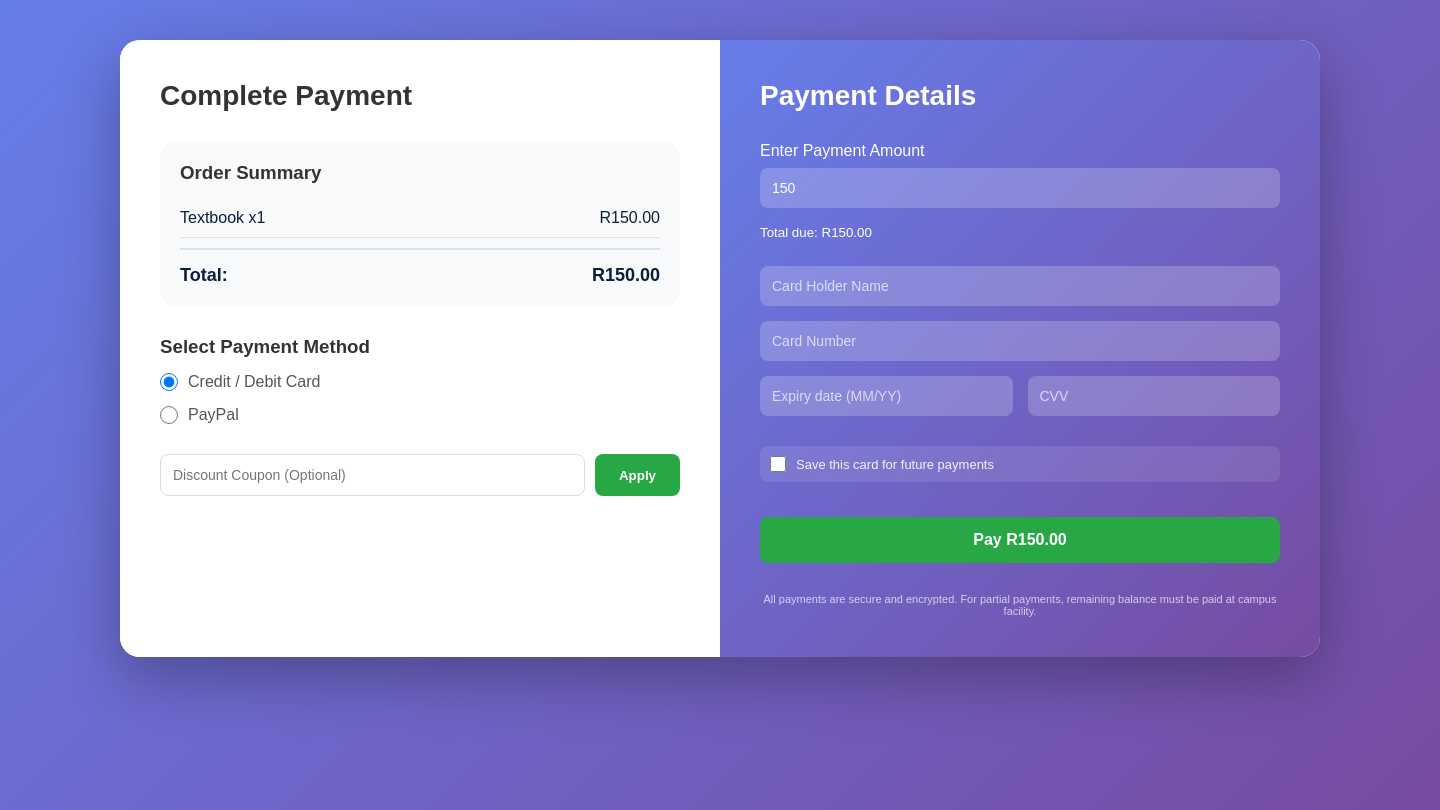
Test: PaymentForm Component Coverage Suite › boundary check upper limit: rejects checkout processing if input value exceeds the absolute total balance due limit
The image size is (1440, 810).
Replace the text in the number field with "150.01": (1020, 188) [760,168,1280,208]
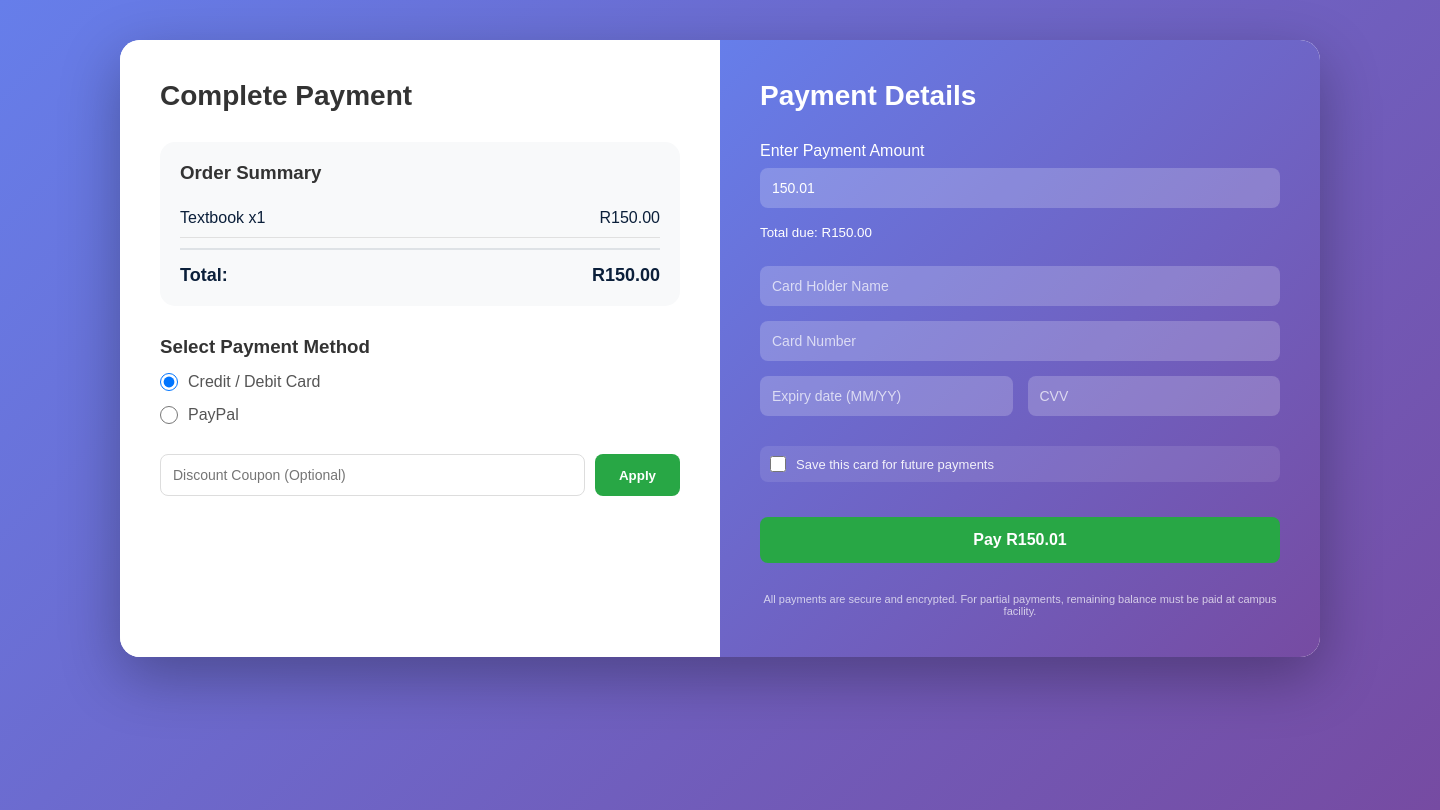
Click the button "Pay R150.01": (1020, 540) [760,517,1280,563]
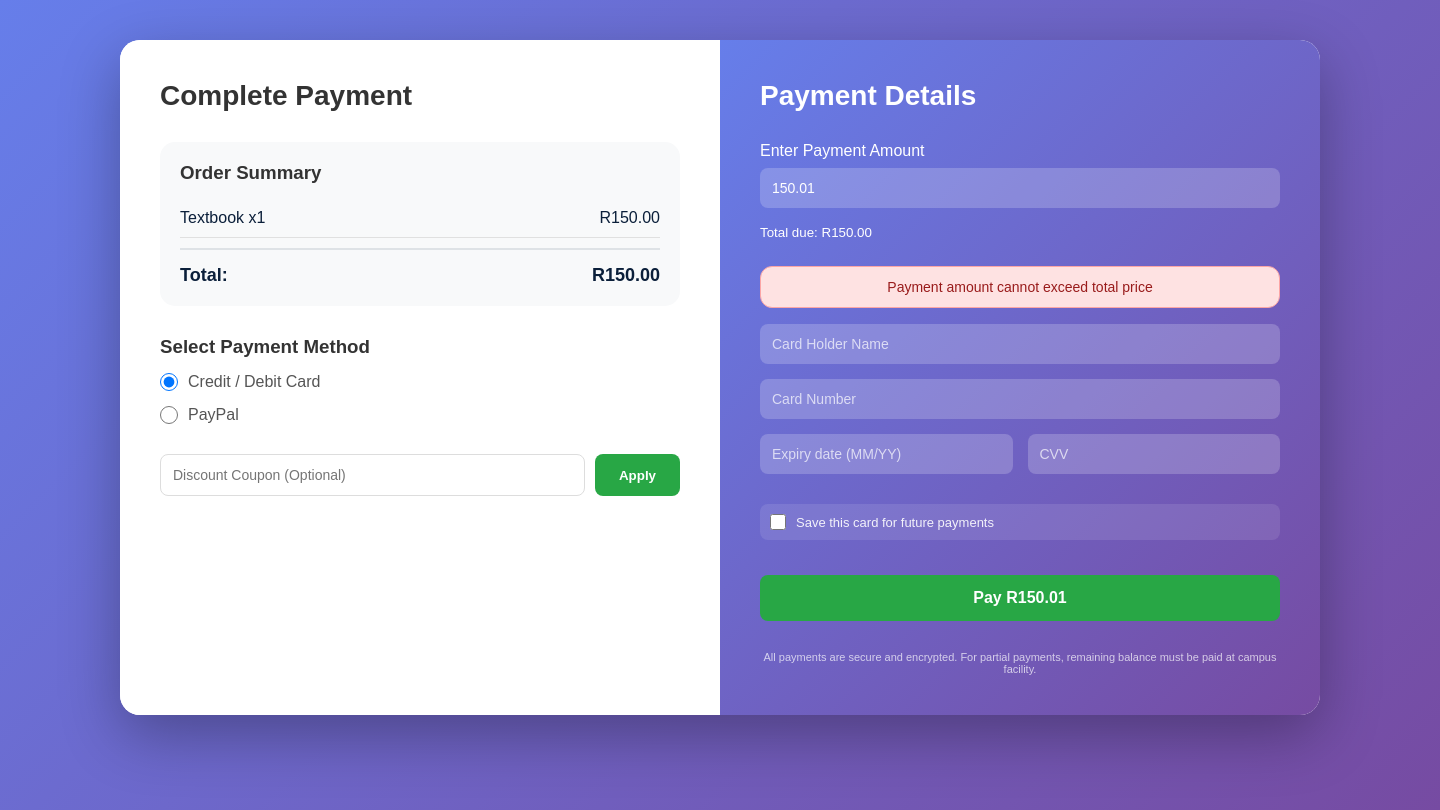
Result: the text "Payment amount cannot exceed total price" is shown at [760,266,1280,308]
